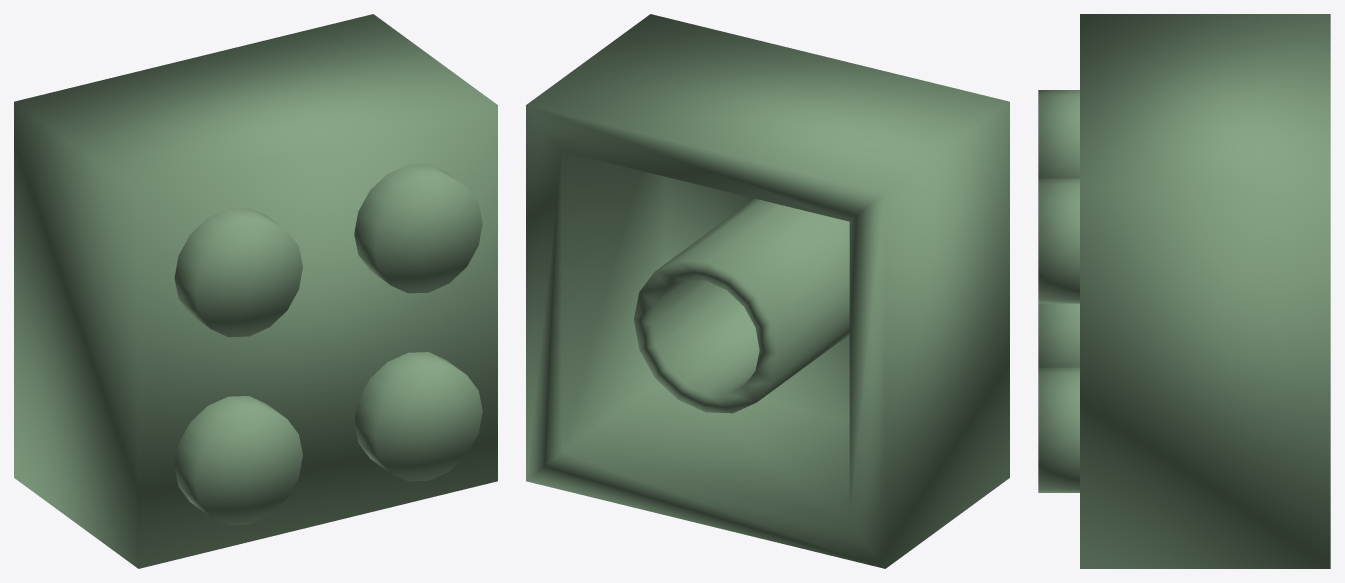
3 views of the same model, side by side, from view 1: azimuth 30°, elevation 25°; view 2: azimuth 150°, elevation 25°; view 3: azimuth 270°, elevation 25° (orthographic).
Size of the model in its own units: 16 by 16 by 11.2.
